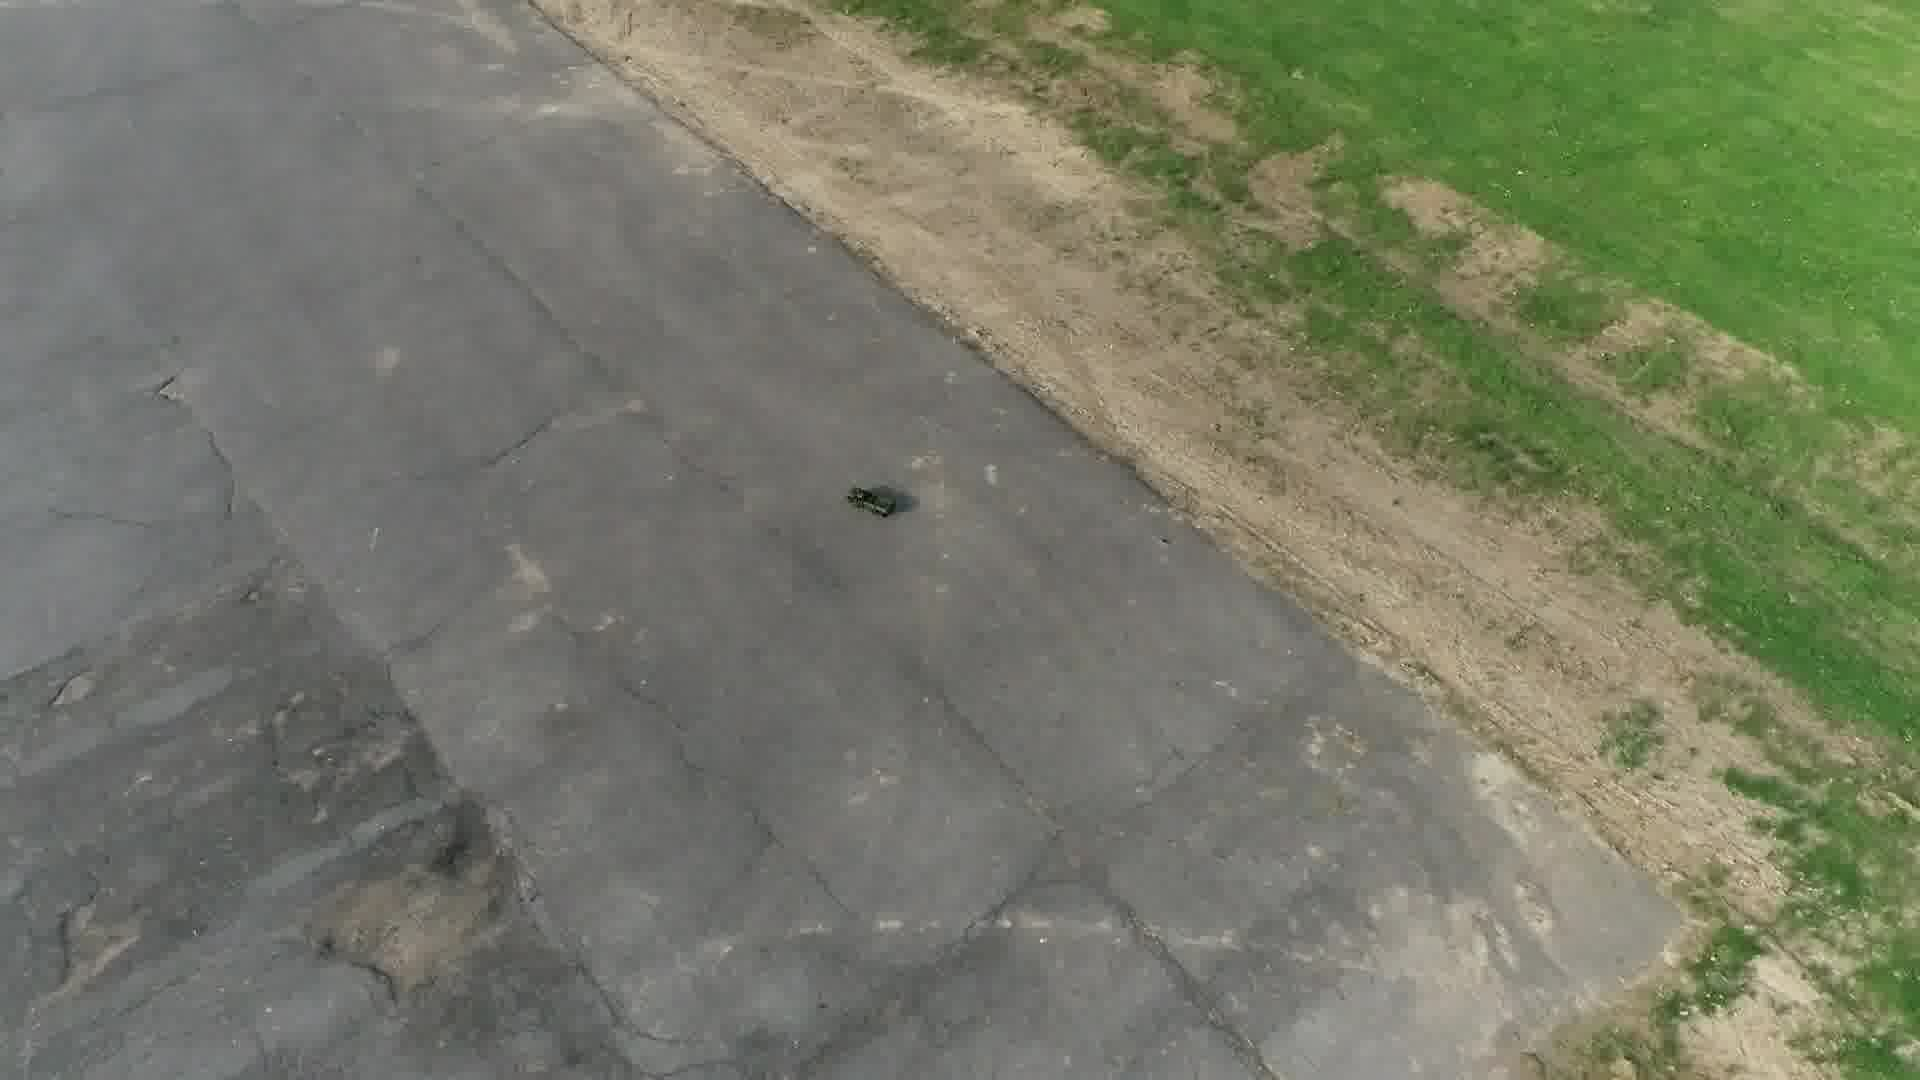transporter9: (841, 484, 898, 520)
